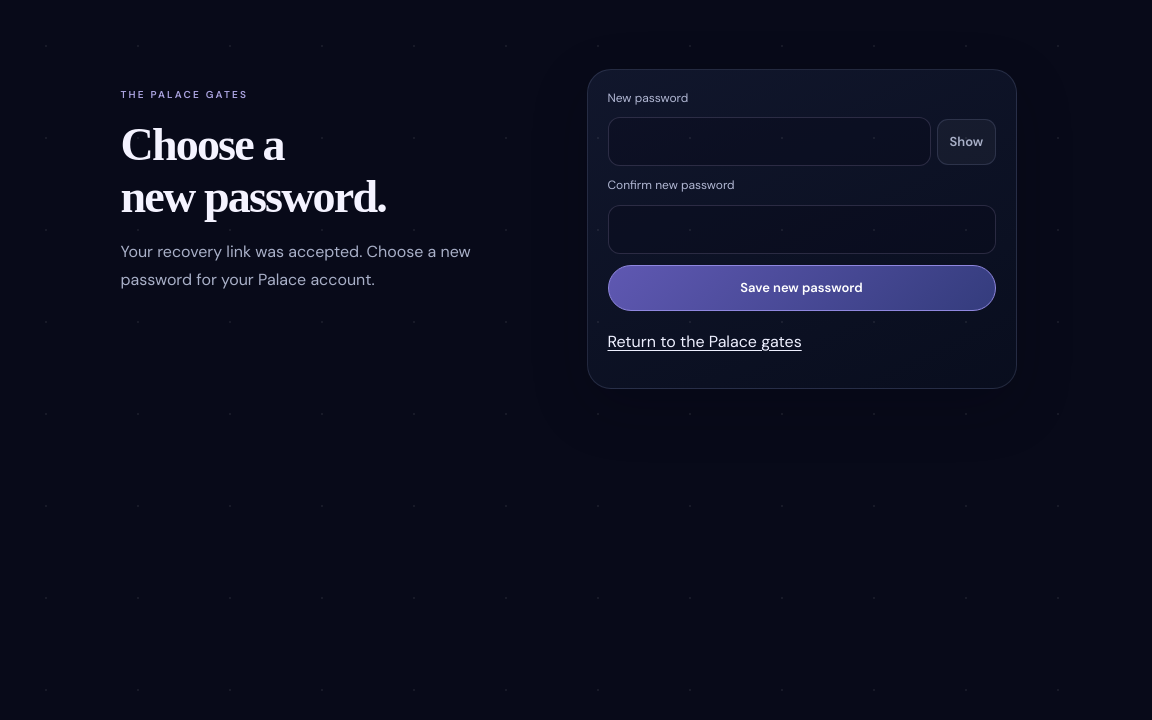
legacy recovery does not update password if confirmation mismatches
Type "very-long-recovery-password" into the password field labelled "New password" at (769,142), box [608,117,931,166]
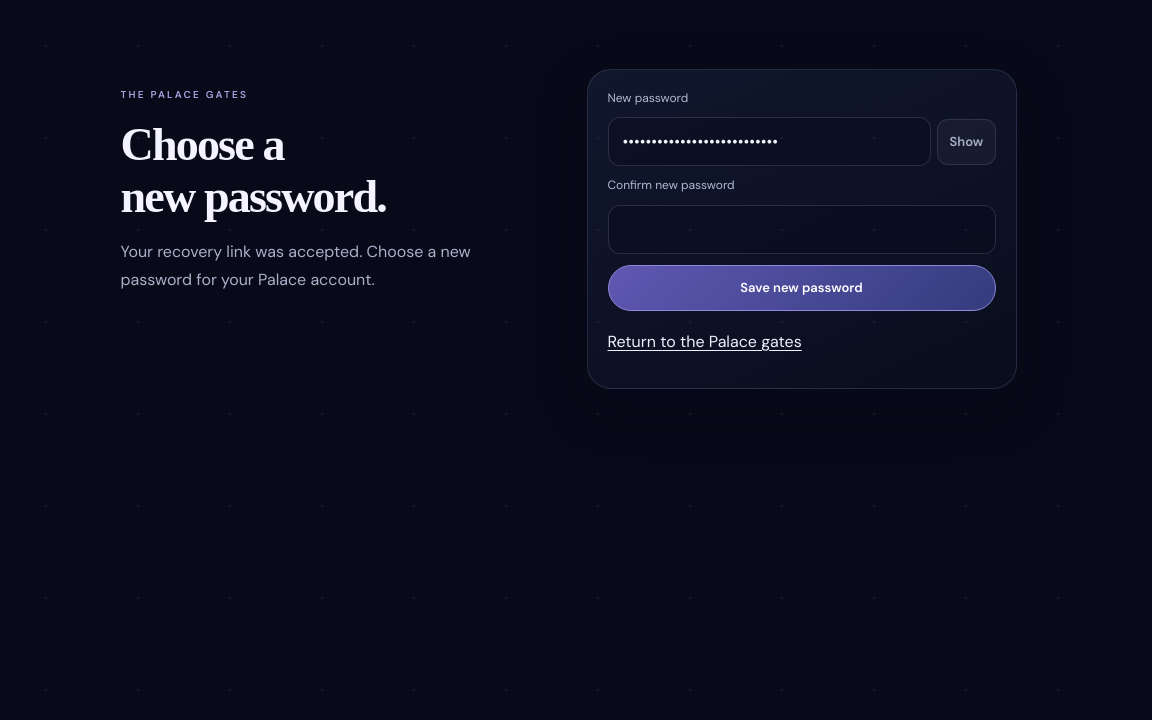
Type "something-else-entirely" into the password field labelled "Confirm new password" at (802,229), box [608,205,996,254]
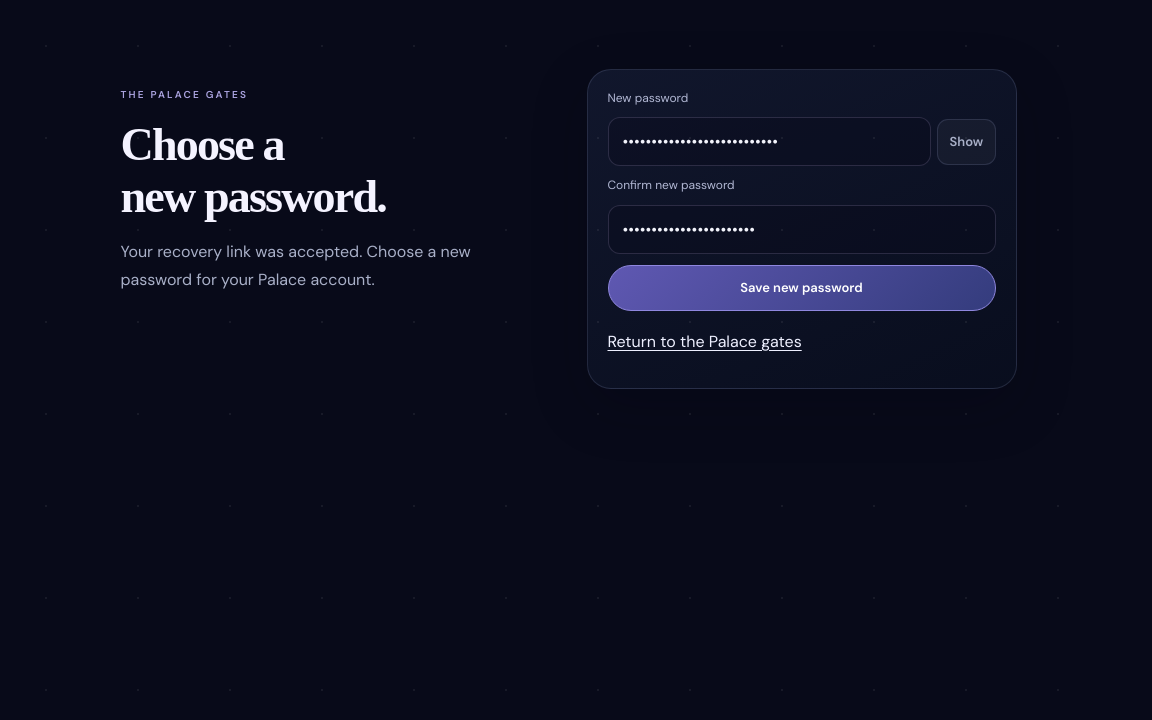
Click the button "Save new password" at (802,288), box [608,265,996,311]
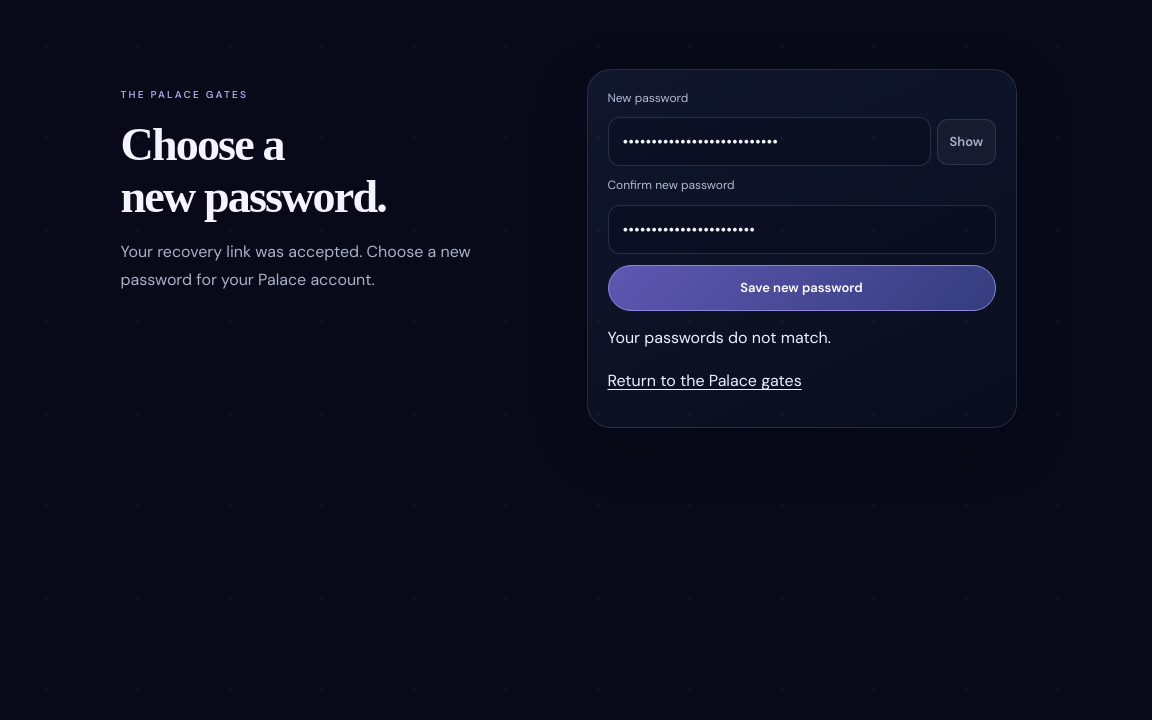
Check: the message shows "passwords do not match", box [608,327,831,348]
